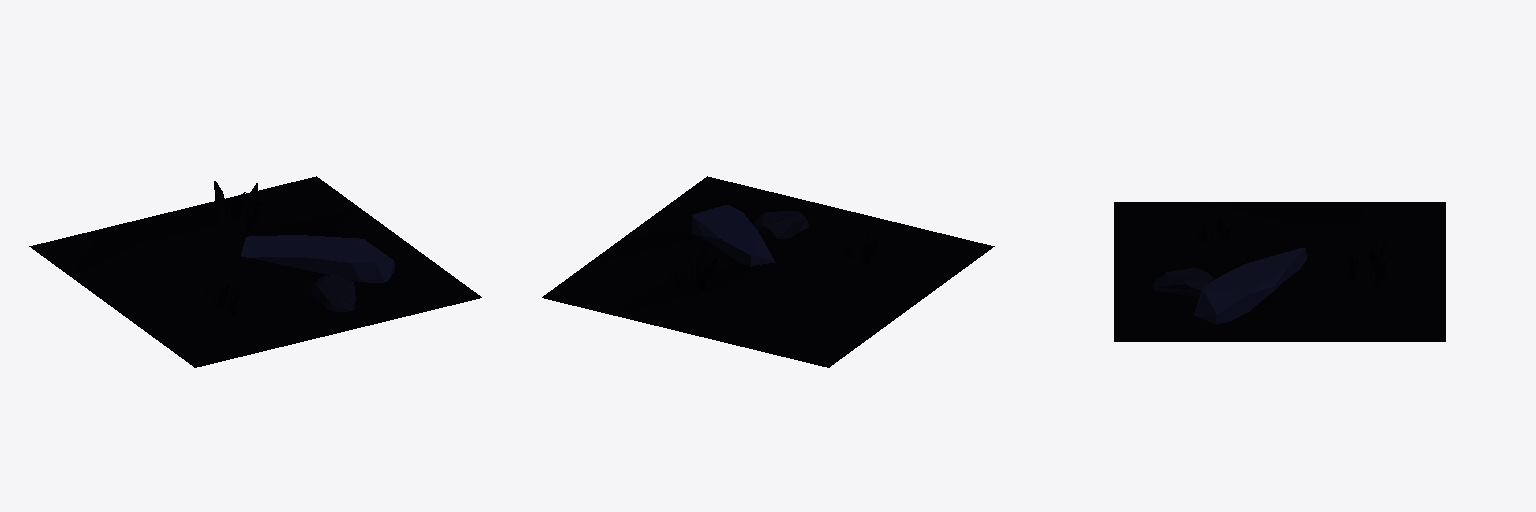
Rendered from tile_4.obj.
3 renders of one model, left to right at view 1: azimuth 30°, elevation 25°; view 2: azimuth 150°, elevation 25°; view 3: azimuth 270°, elevation 25°, orthographic.
Parts seen in each view (by area): view 1: Cube.463_Cube.464, Cube.015_Cube.007, Cube.464_Cube.465; view 2: Cube.463_Cube.464, Cube.015_Cube.007, Cube.464_Cube.465; view 3: Cube.463_Cube.464, Cube.015_Cube.007, Cube.464_Cube.465.
Part boxes in pixels (x1,y1,x2,y2): Cube.463_Cube.464: (29, 176, 481, 367); Cube.015_Cube.007: (241, 235, 394, 282); Cube.464_Cube.465: (310, 275, 355, 311); Cube.463_Cube.464: (542, 176, 994, 367); Cube.015_Cube.007: (691, 205, 774, 266); Cube.464_Cube.465: (755, 211, 808, 238); Cube.463_Cube.464: (1114, 202, 1445, 341); Cube.015_Cube.007: (1194, 248, 1306, 324); Cube.464_Cube.465: (1153, 267, 1213, 296).
Size of the model in its own units: 4 by 0.7948 by 4.